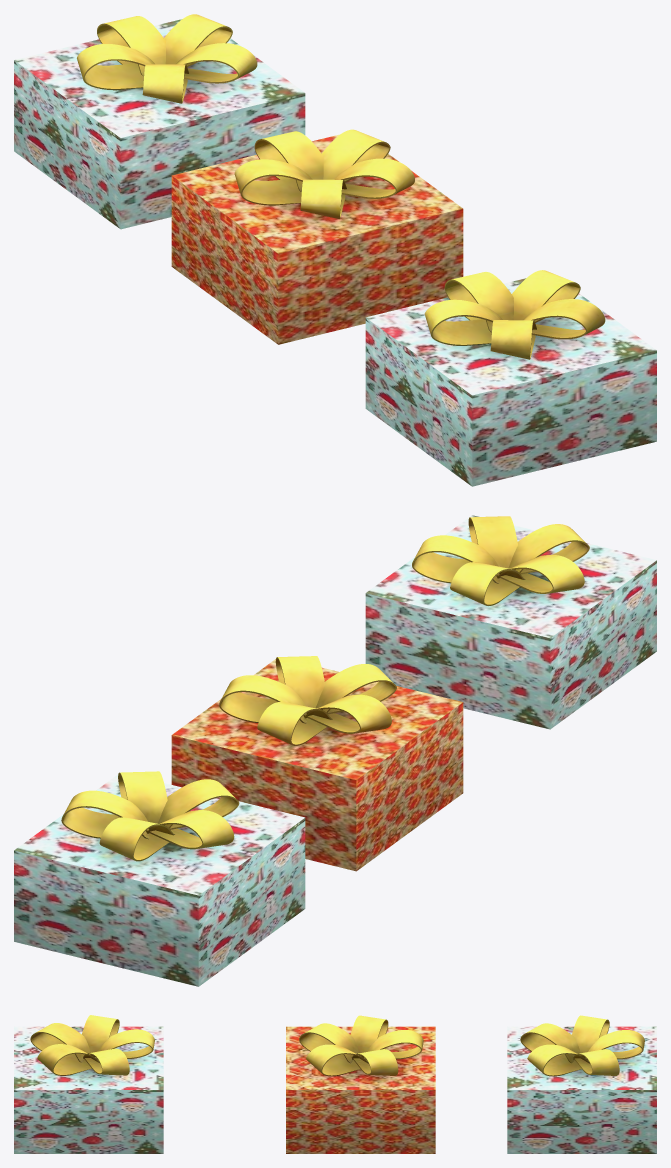
The model's file is gift boxes models new.fbx.
3 renders of one model, top to bottom at view 1: azimuth 30°, elevation 25°; view 2: azimuth 150°, elevation 25°; view 3: azimuth 270°, elevation 25°, orthographic. The views are drawn at different scales.
Visible parts, largest first — view 1: Cloner_1, Cloner_2, Cloner; view 2: Cloner, Cloner_1, Cloner_2; view 3: Cloner_1, Cloner_2, Cloner.
Boxes of the visible parts, x1,y1,x2,y2 form: Cloner_1: [365, 270, 656, 486]; Cloner_2: [171, 129, 463, 344]; Cloner: [14, 14, 305, 229]; Cloner: [14, 771, 305, 986]; Cloner_1: [365, 515, 656, 729]; Cloner_2: [171, 656, 463, 871]; Cloner_1: [14, 1015, 163, 1153]; Cloner_2: [286, 1015, 435, 1153]; Cloner: [507, 1015, 656, 1153].
Size of the model in its own units: 200 by 127 by 859.
